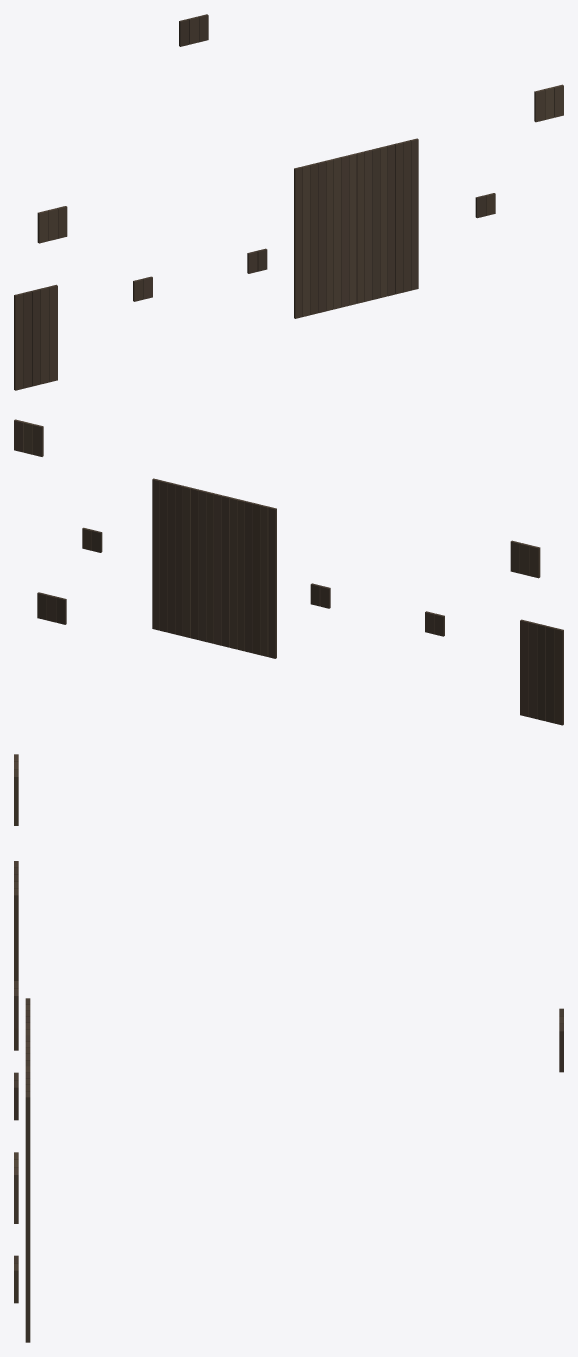
File: SM_Bld_001_Wood.glb
3 views of the same model, one above another, from view 1: azimuth 30°, elevation 25°; view 2: azimuth 150°, elevation 25°; view 3: azimuth 270°, elevation 25° (orthographic). The views are drawn at different scales.
Visible parts, largest first — view 1: SM_Bld_001_Wood; view 2: SM_Bld_001_Wood; view 3: SM_Bld_001_Wood.
Boxes of the visible parts, <box> form: SM_Bld_001_Wood: <box>14,14,563,390</box>; SM_Bld_001_Wood: <box>14,419,563,725</box>; SM_Bld_001_Wood: <box>14,754,563,1342</box>.
Bounding box in the file's own units: 11.52 × 3.44 × 6.09.
